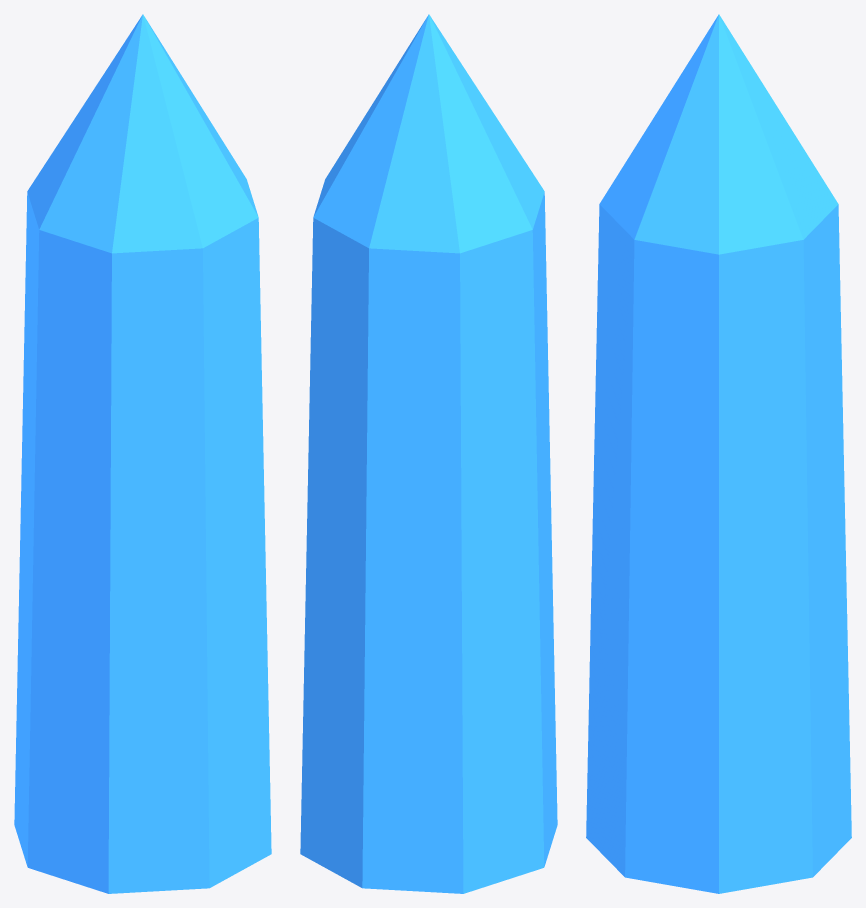
The model's file is GEM_12_MassivePillarCrystal.fbx.
The picture shows the model from 3 angles, left to right: view 1: azimuth 30°, elevation 25°; view 2: azimuth 150°, elevation 25°; view 3: azimuth 270°, elevation 25°; orthographic projection.
Visible parts, largest first — view 1: GEM_12_MassivePillarCrystal; view 2: GEM_12_MassivePillarCrystal; view 3: GEM_12_MassivePillarCrystal.
Part boxes in pixels (x1,y1,x2,y2): GEM_12_MassivePillarCrystal: [14, 14, 271, 893]; GEM_12_MassivePillarCrystal: [300, 14, 557, 893]; GEM_12_MassivePillarCrystal: [586, 14, 851, 893].
Size of the model in its own units: 0.76 by 2.6 by 0.76.
